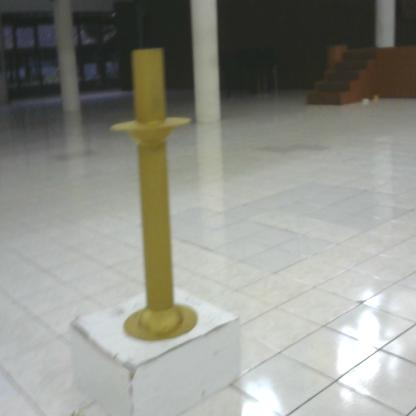pole: (104, 42, 204, 351)
